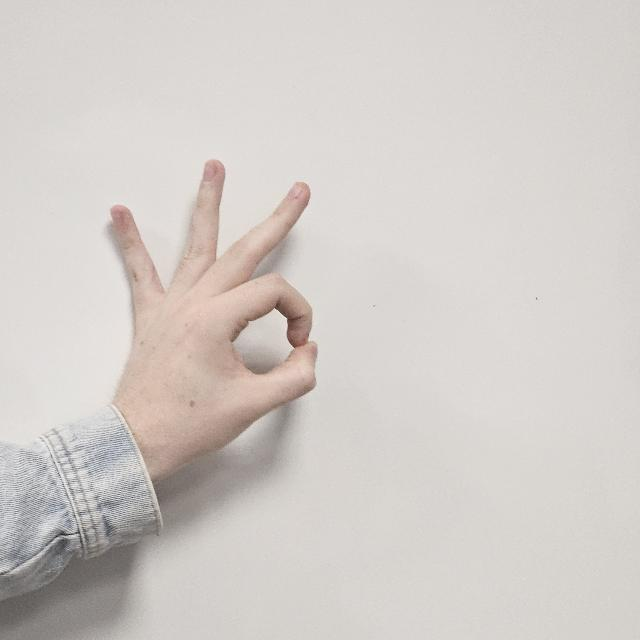Bolinha: (108, 154, 348, 491)
